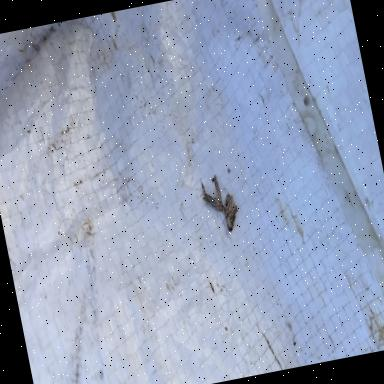pbw: (218, 190, 242, 232), (212, 174, 222, 204)
